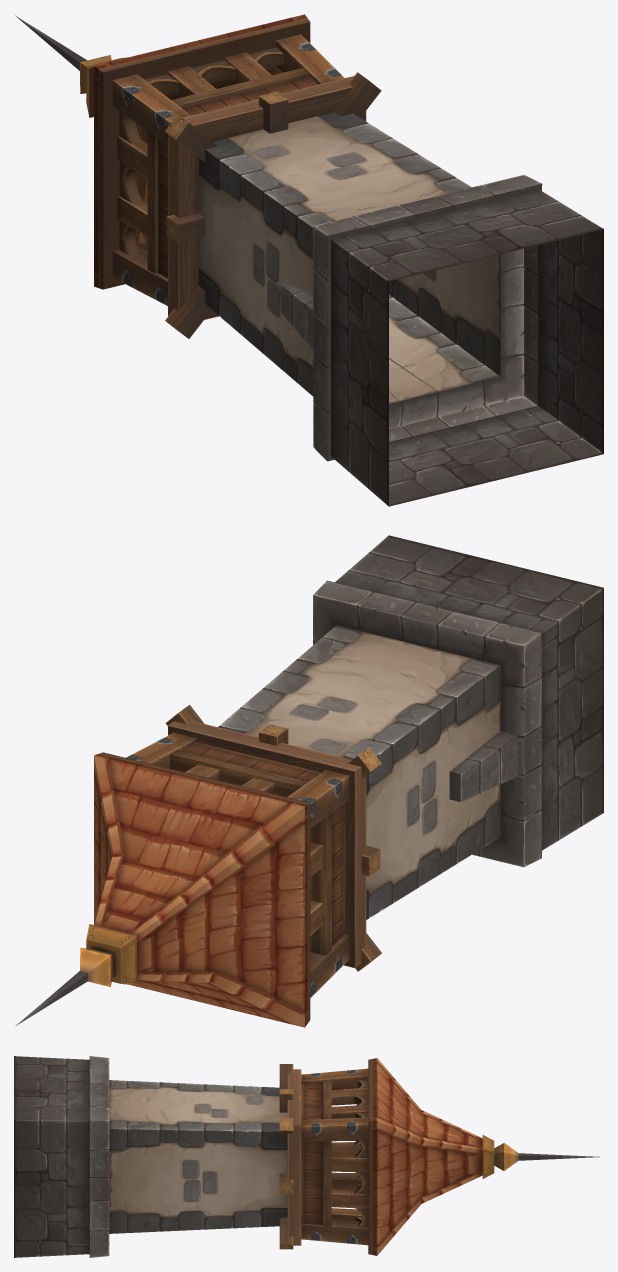
File: Wall_tower2.fbx
3 renders of one model, top to bottom at view 1: azimuth 30°, elevation 25°; view 2: azimuth 150°, elevation 25°; view 3: azimuth 270°, elevation 25°, orthographic. The views are drawn at different scales.
Parts seen in each view (by area): view 1: Wall_tower2; view 2: Wall_tower2; view 3: Wall_tower2.
Boxes of the visible parts, x1=… form: Wall_tower2: x1=15, y1=14, x2=603, y2=506; Wall_tower2: x1=15, y1=535, x2=603, y2=1027; Wall_tower2: x1=14, y1=1056, x2=599, y2=1257.
Size of what is drawn, in the model's own units: 2.85 by 2.85 by 11.07.
